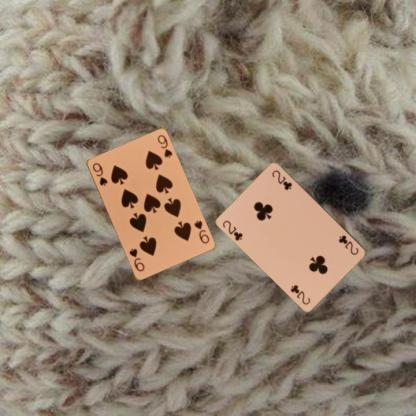2c: (336, 232, 360, 256), (220, 218, 244, 242)
9s: (192, 217, 210, 245), (90, 160, 108, 187)
